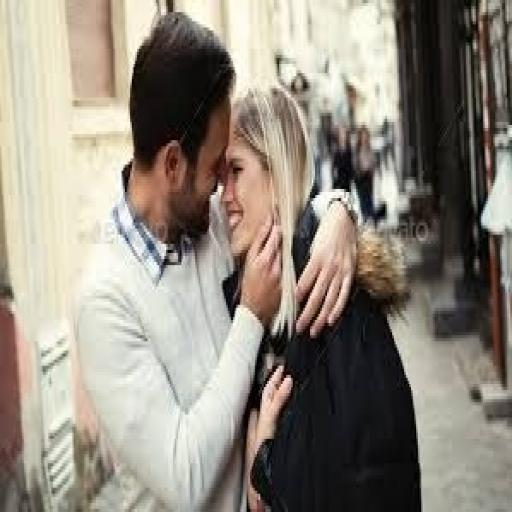hugging: (67, 9, 423, 509), (219, 76, 423, 509)
